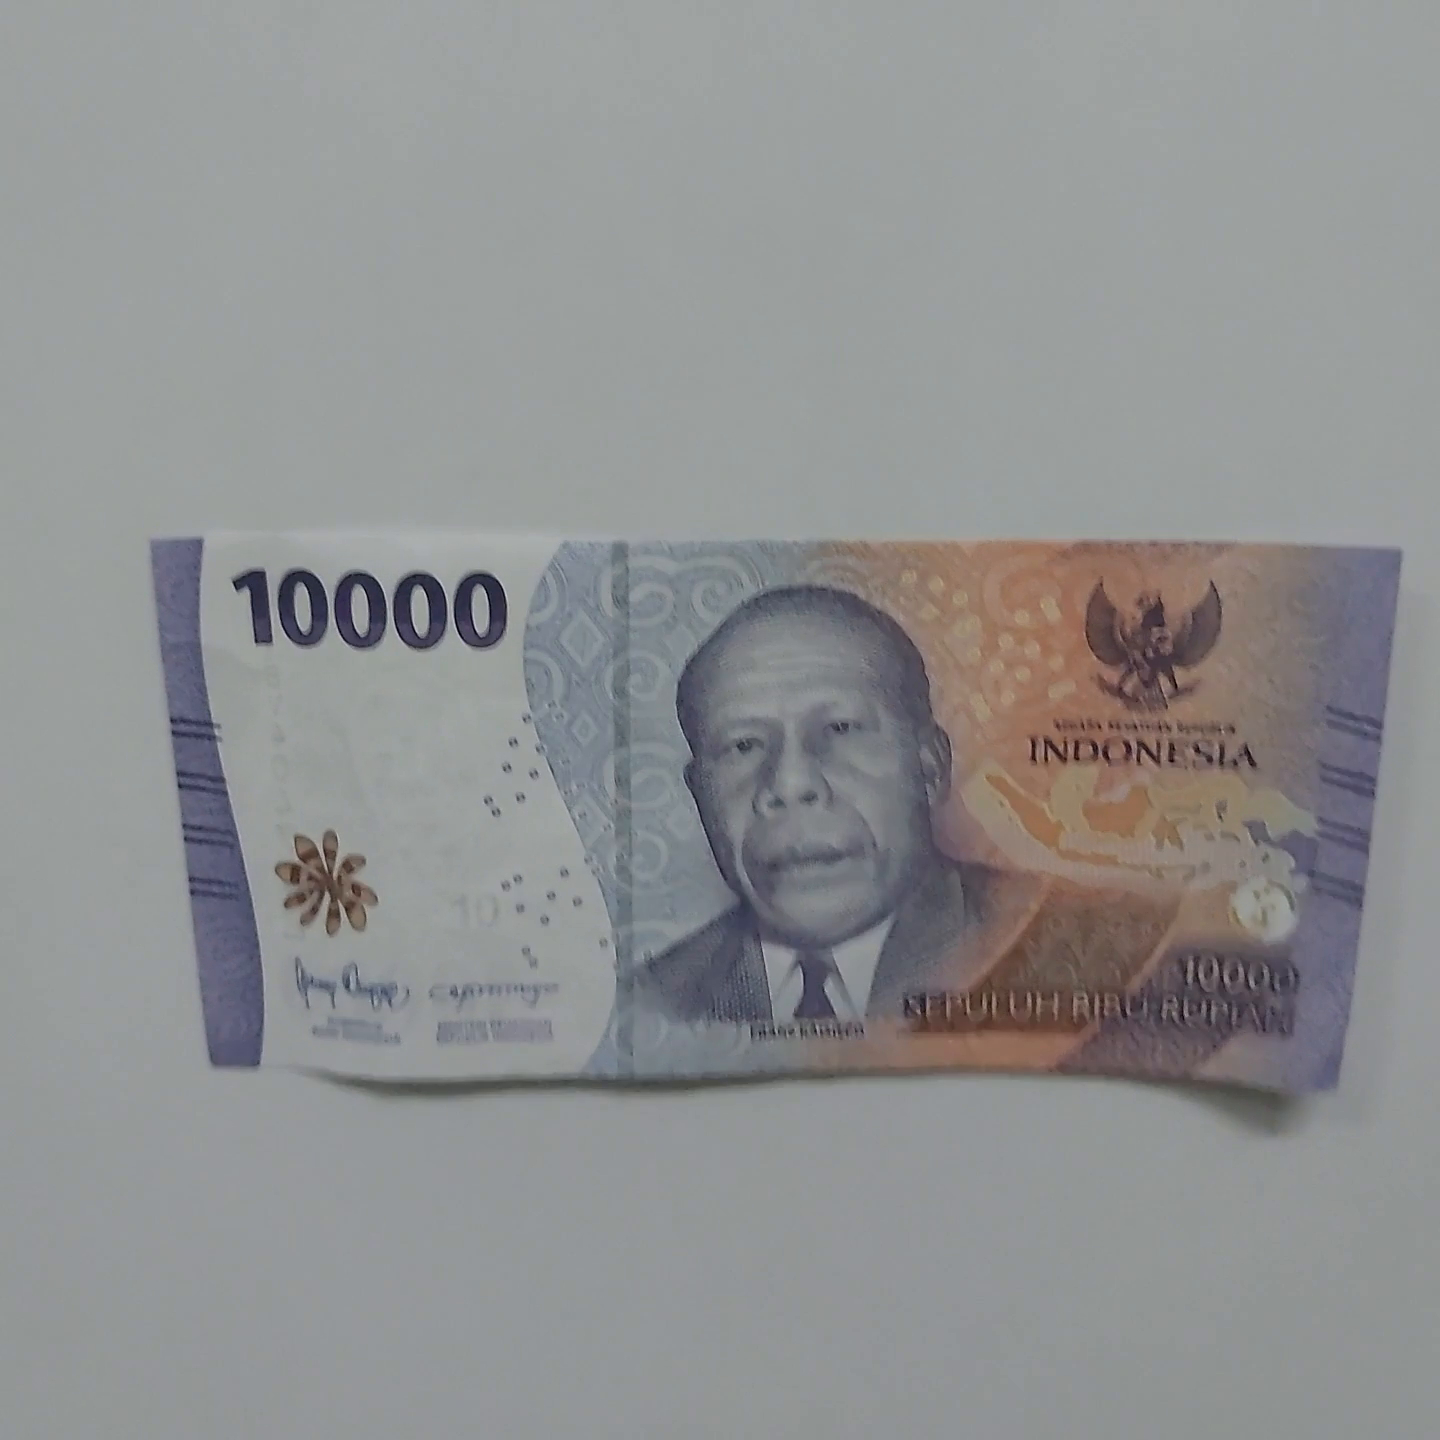10k: (125, 481, 1403, 1104)
